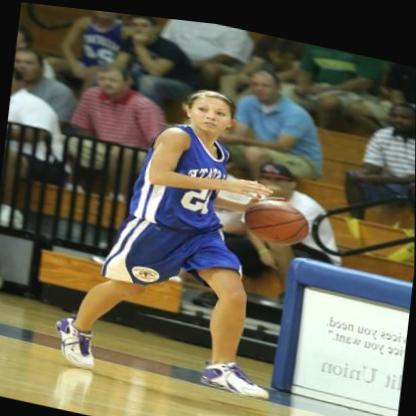basketball: (240, 185, 313, 245)
